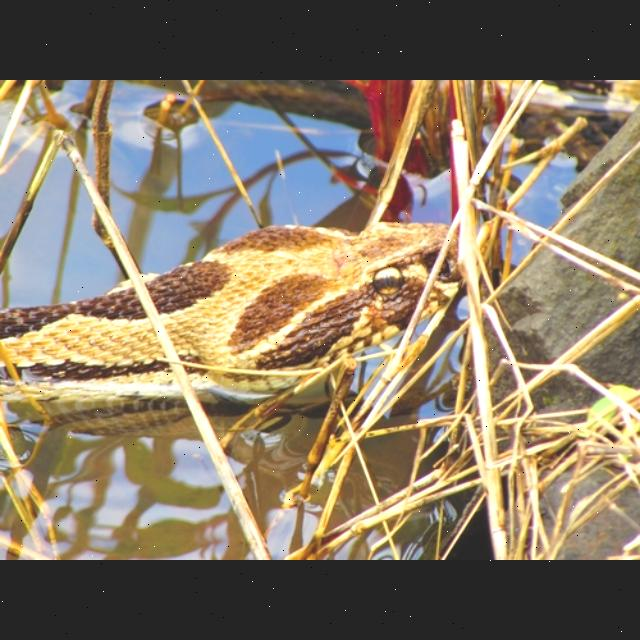snake: (0, 214, 478, 414)
